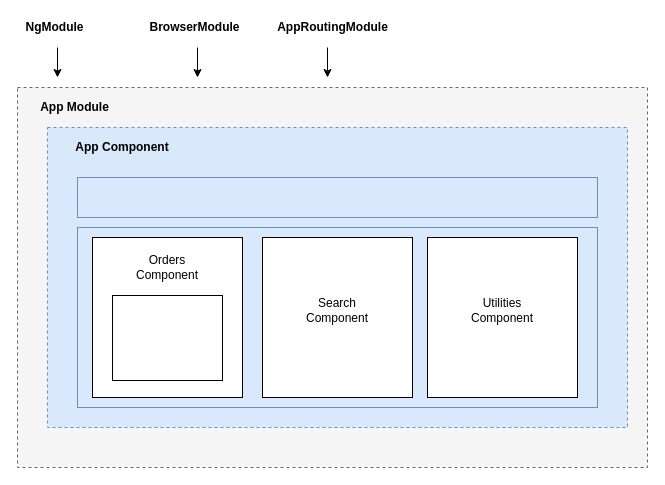
Image size: 665x485. Some labels were removed from this diagram. Here are the shapes that lost their labels. From the top down, the centre of each, then its label:
point 337,197: Navigation
point 167,337: Order Detail Component
